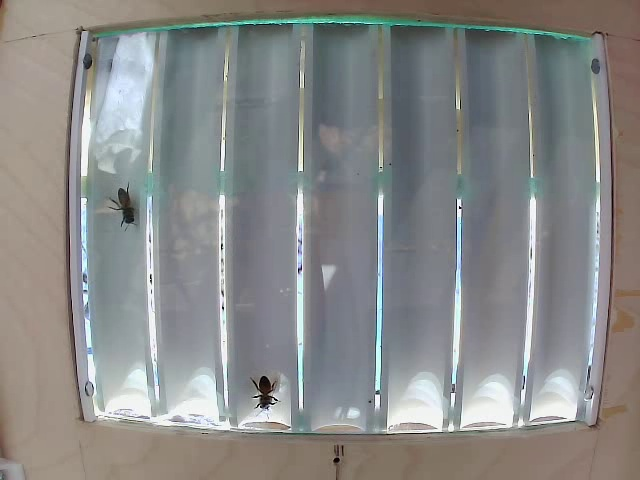bee: (102, 174, 149, 235)
